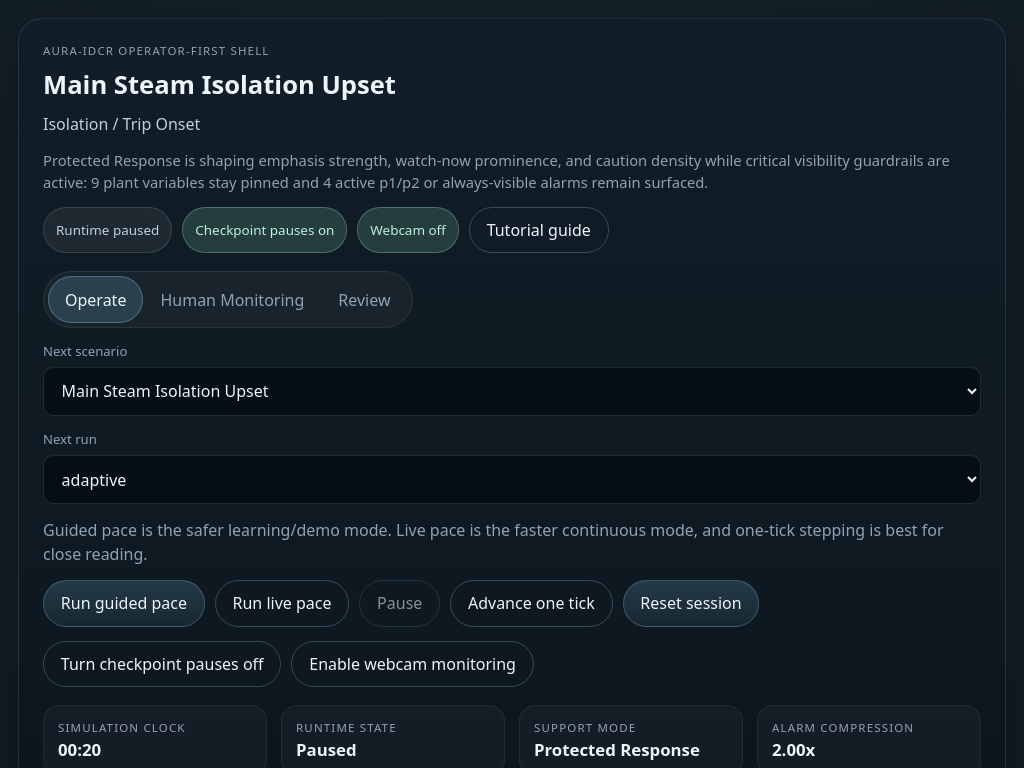
Test: AuraSessionStore › renders the operator-side supervisor override request affordance for eligible hard prevents
The image size is (1024, 768).
Click the tab "Review": (364,300) [321,276,408,323]
(page scrolled)
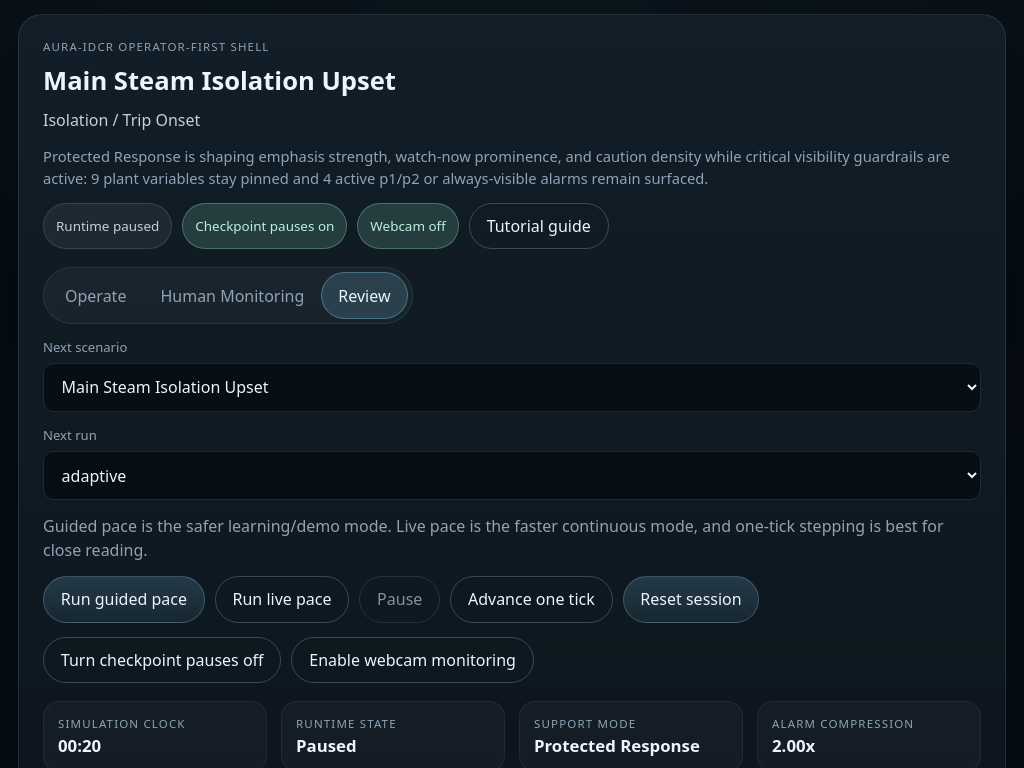
Result: the heading "Validator demo checklist" is shown at [62,372,293,397]
